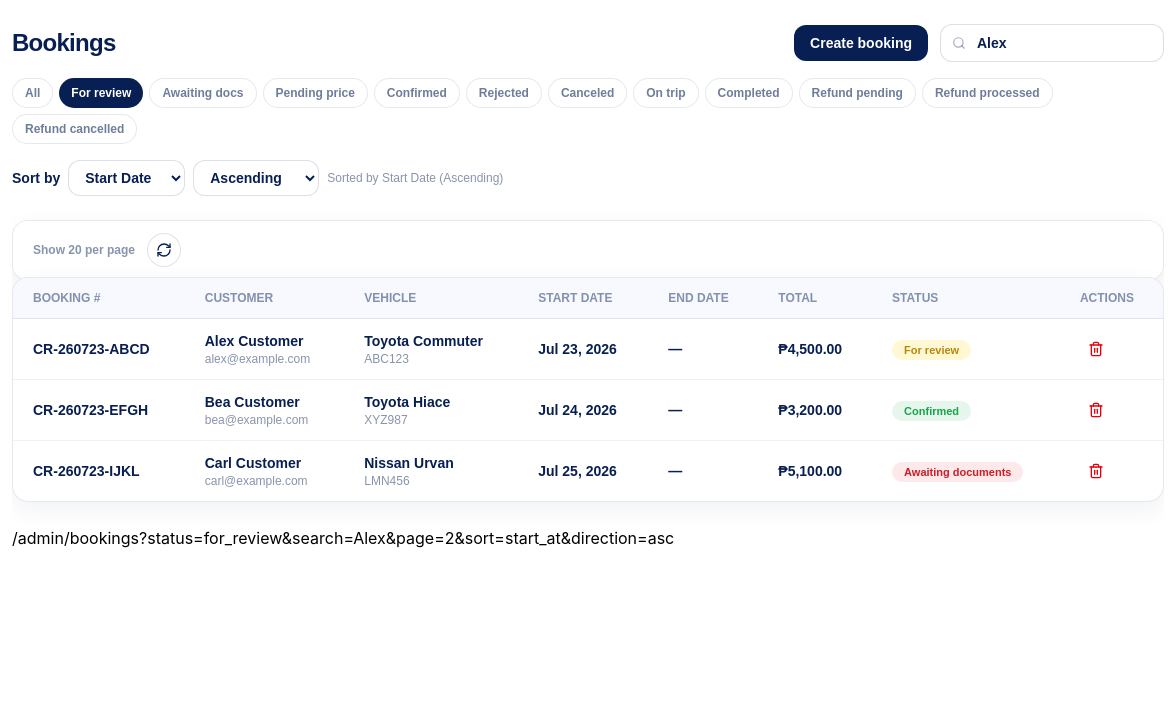
Scenario: AdminBookings › initializes filters from and writes changes to the URL
expect the field named "Search bookings" holds "Alex": met, box [940,24,1164,62]
expect the dropdown named "Sort bookings by" shows "Start Date": met, box [68,160,185,196]
Click the button "Confirmed": click(417, 93) [374,78,460,108]
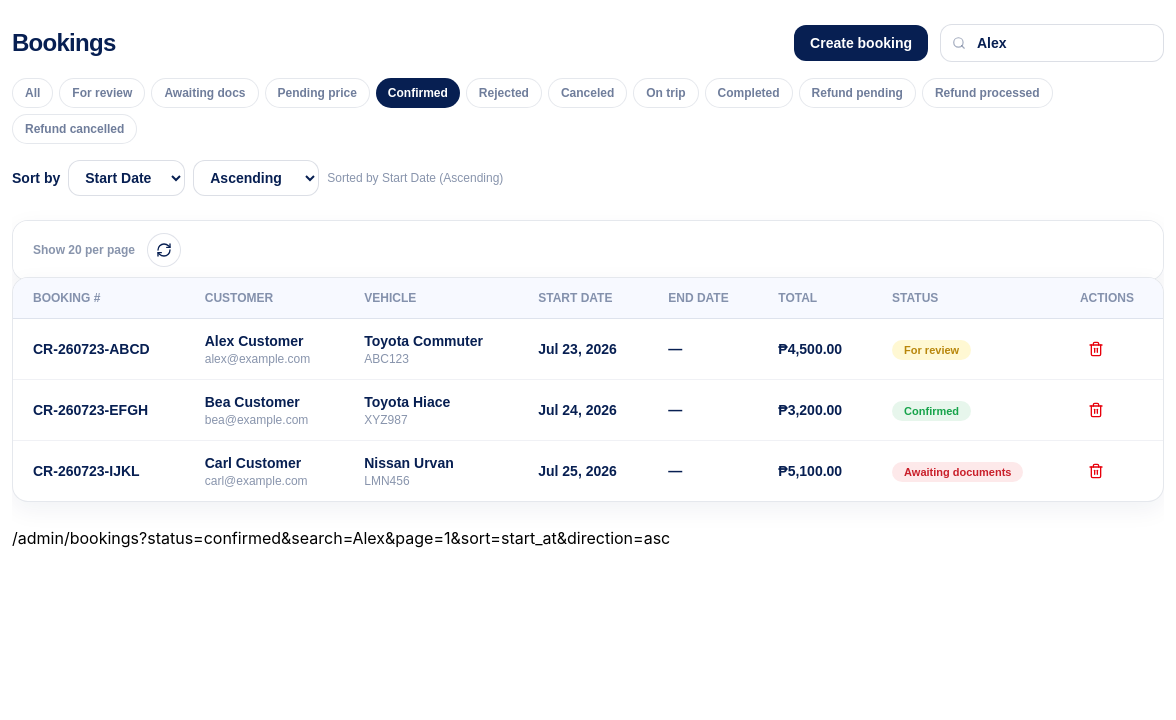
expect the text with test id "location" reads "/admin/bookings?status=confirmed&search=Alex&page=1&sort=start_at&direction=asc": met, box [12,528,670,548]
